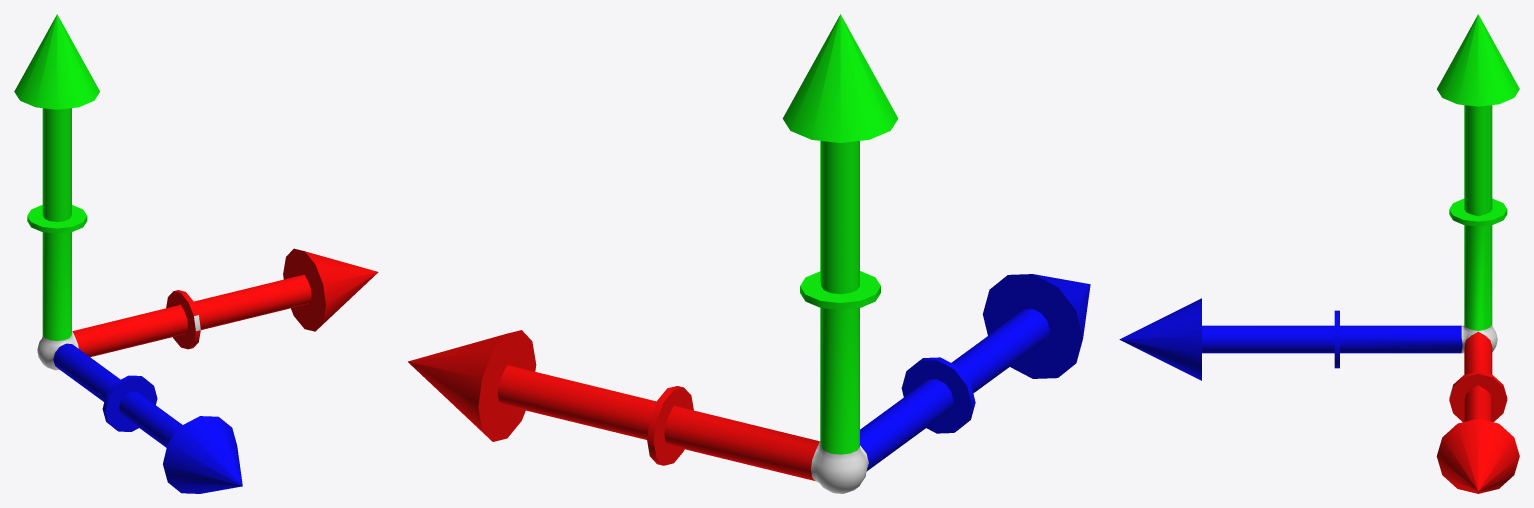
Rendered from repere25.obj.
3 renders of one model, left to right at view 1: azimuth 30°, elevation 25°; view 2: azimuth 150°, elevation 25°; view 3: azimuth 270°, elevation 25°, orthographic. The views are drawn at different scales.
Parts seen in each view (by area): view 1: repere; view 2: repere; view 3: repere.
Boxes of the visible parts, x1,y1,x2,y2 form: repere: [14, 14, 378, 493]; repere: [408, 14, 1090, 493]; repere: [1119, 14, 1519, 493].
Size of the model in its own units: 72.53 by 72.53 by 72.53.
